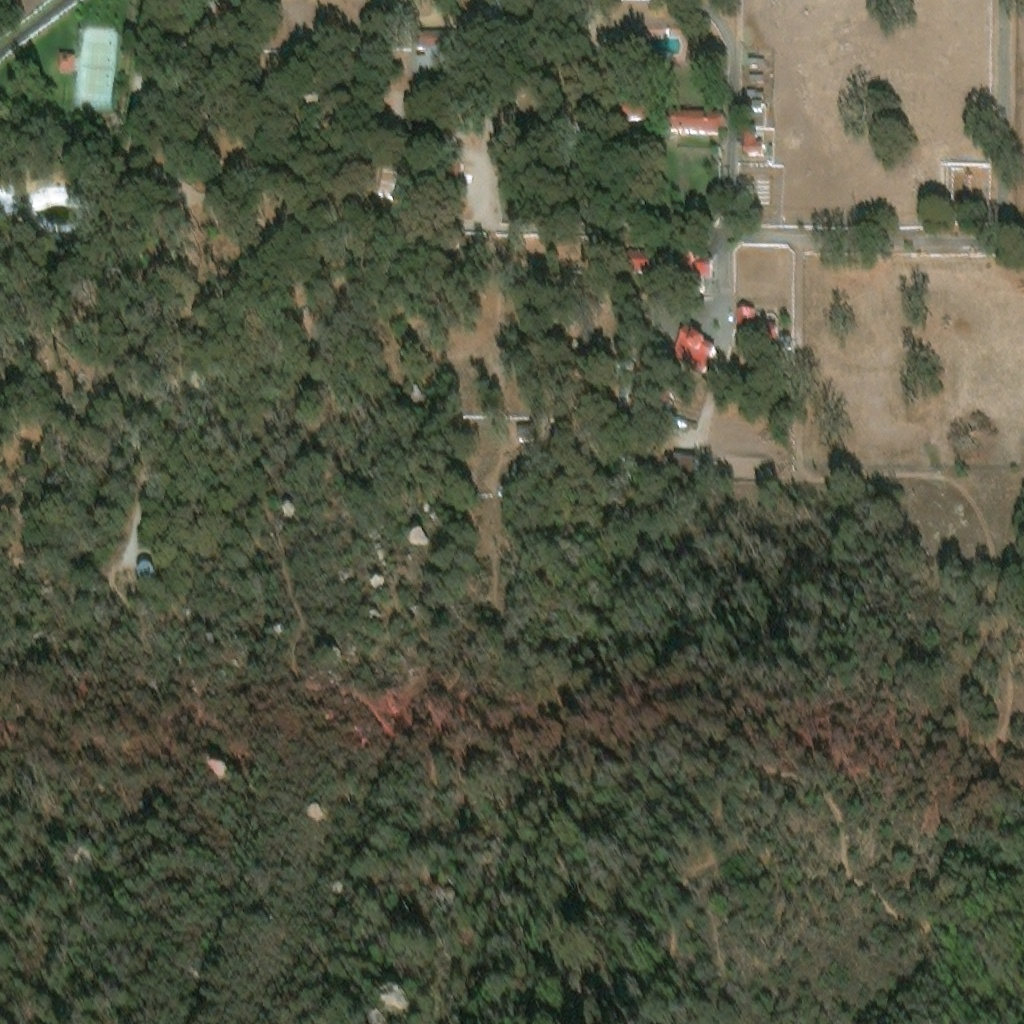4 un-classified: (58, 25, 119, 105), (623, 106, 726, 134), (626, 251, 711, 280), (673, 327, 716, 371), (736, 306, 780, 346), (417, 27, 500, 48), (671, 450, 694, 476), (744, 129, 762, 155), (419, 56, 441, 72), (518, 427, 537, 443)
